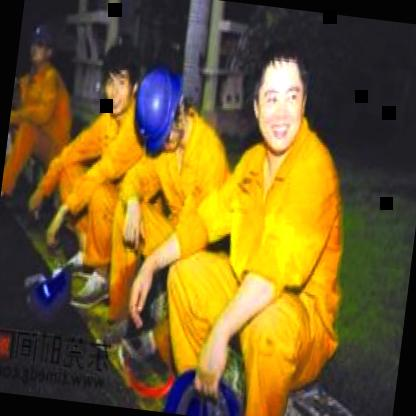head: (238, 42, 317, 158), (99, 34, 140, 115)
helmet: (123, 58, 191, 164), (21, 10, 63, 74)
